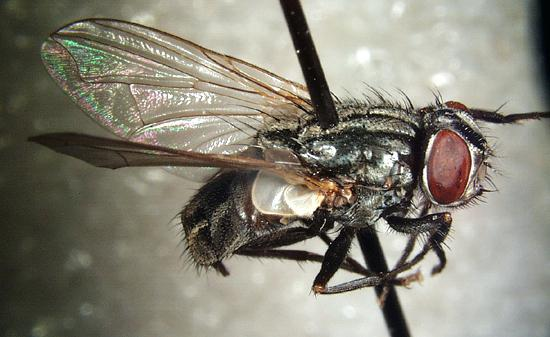fly: (24, 16, 549, 312)
